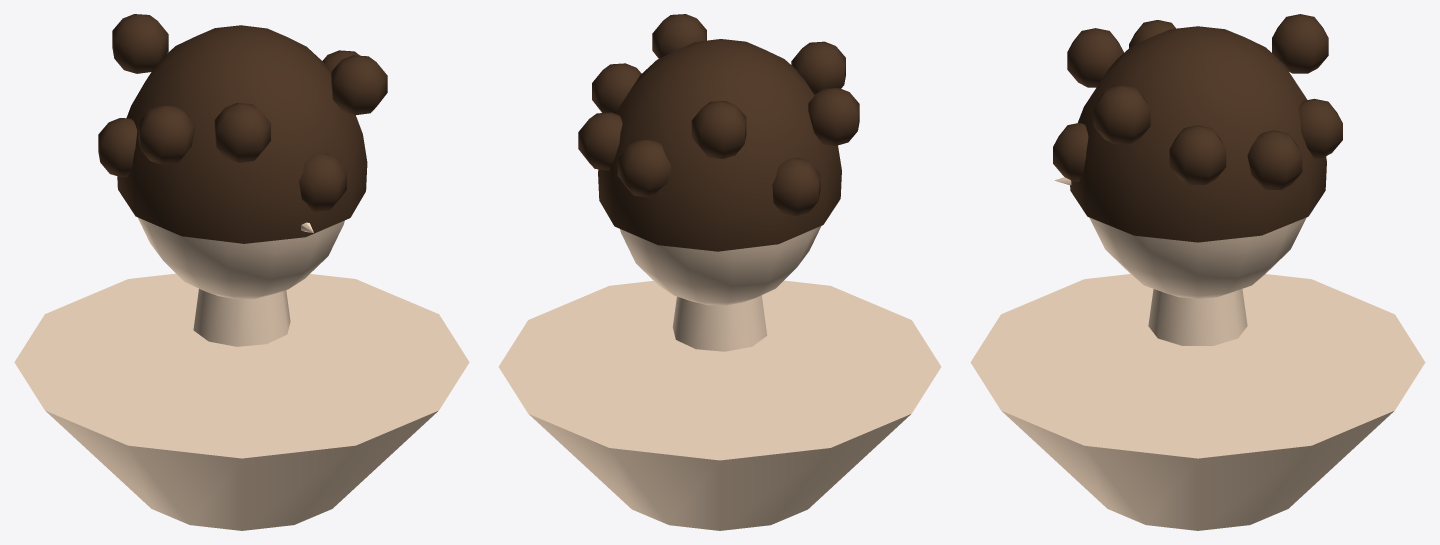
Rendered from raw_001.glb.
The picture shows the model from 3 angles, left to right: view 1: azimuth 30°, elevation 25°; view 2: azimuth 150°, elevation 25°; view 3: azimuth 270°, elevation 25°; orthographic projection. The views are drawn at different scales.
Bounding box in the file's own units: 1.93 × 2.11 × 1.93.
